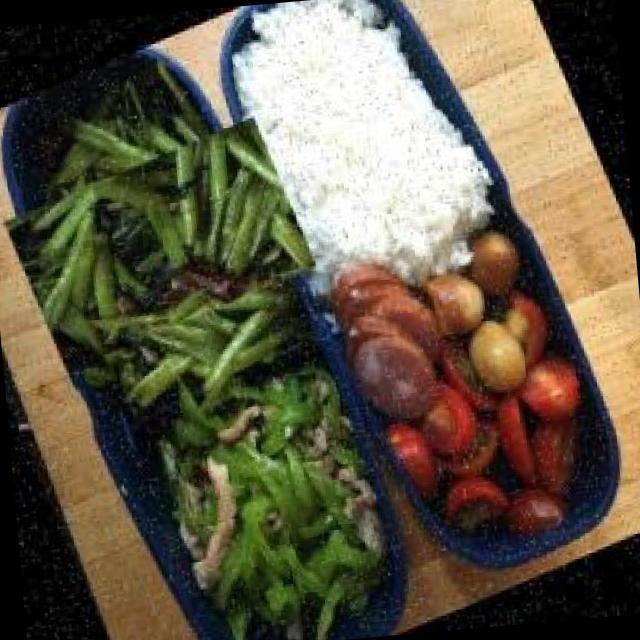rice: (228, 0, 471, 288)
water_spinach: (14, 96, 310, 392)
